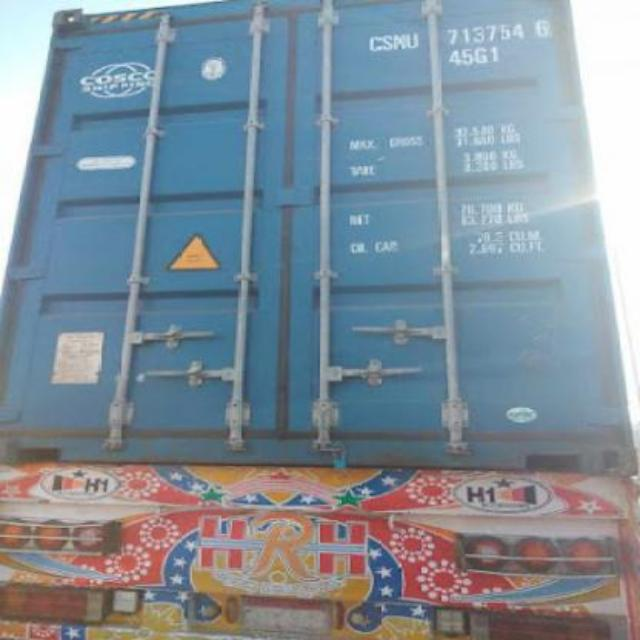1: (462, 26, 472, 46)
3: (474, 25, 486, 45)
4: (514, 21, 526, 41)
5: (498, 23, 512, 41)
6: (534, 21, 552, 39)
7: (484, 23, 500, 43), (446, 26, 459, 48)
C: (370, 35, 380, 53)
N: (394, 33, 406, 53)
S: (381, 35, 394, 53)
U: (406, 32, 418, 52)
